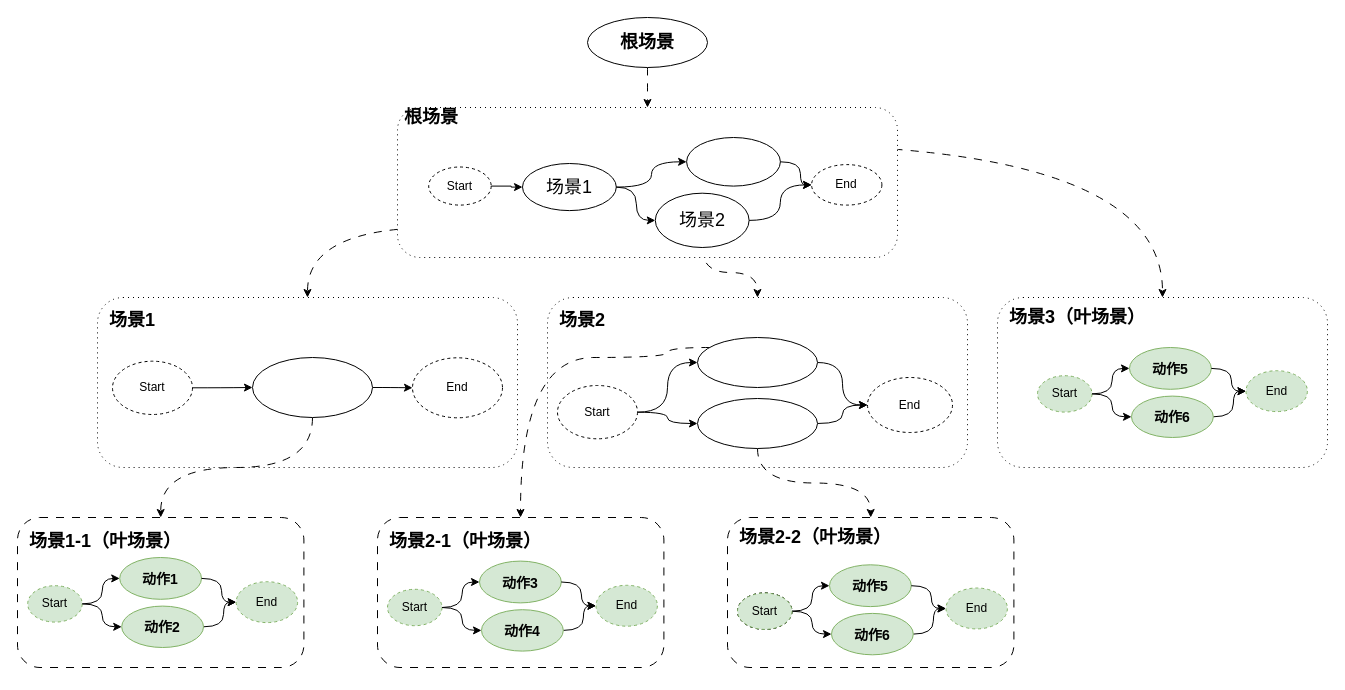
This 1345x690 diagram has some shape labels left out. Each missing label, with the centre of its shape:
场景1-1: the point at 312,387
场景2-1: the point at 757,362
场景2-2: the point at 757,423
场景3: the point at 733,161
